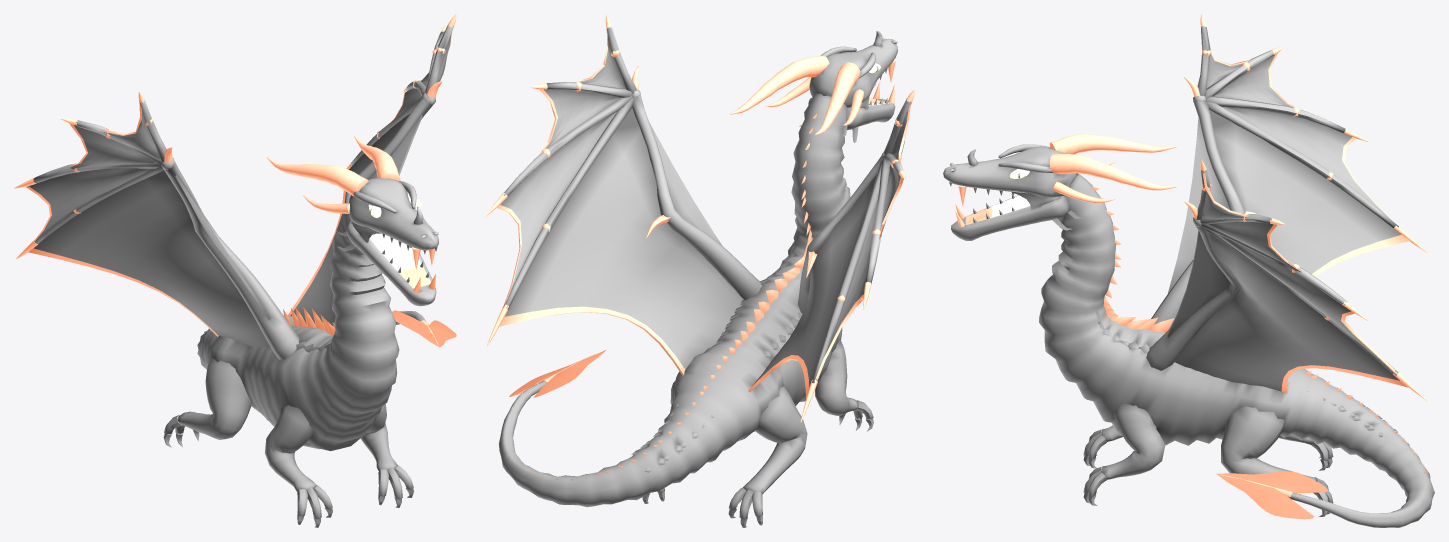
File: dragon.glb
3 views of the same model, side by side, from view 1: azimuth 30°, elevation 25°; view 2: azimuth 150°, elevation 25°; view 3: azimuth 270°, elevation 25° (orthographic). The views are drawn at different scales.
Visible parts, largest first — view 1: Dragon; view 2: Dragon; view 3: Dragon.
Part boxes in pixels (x1,y1,x2,y2): Dragon: [14, 14, 456, 527]; Dragon: [485, 14, 914, 527]; Dragon: [943, 14, 1434, 527].
Size of the model in its own units: 0.8784 by 0.9106 by 1.
